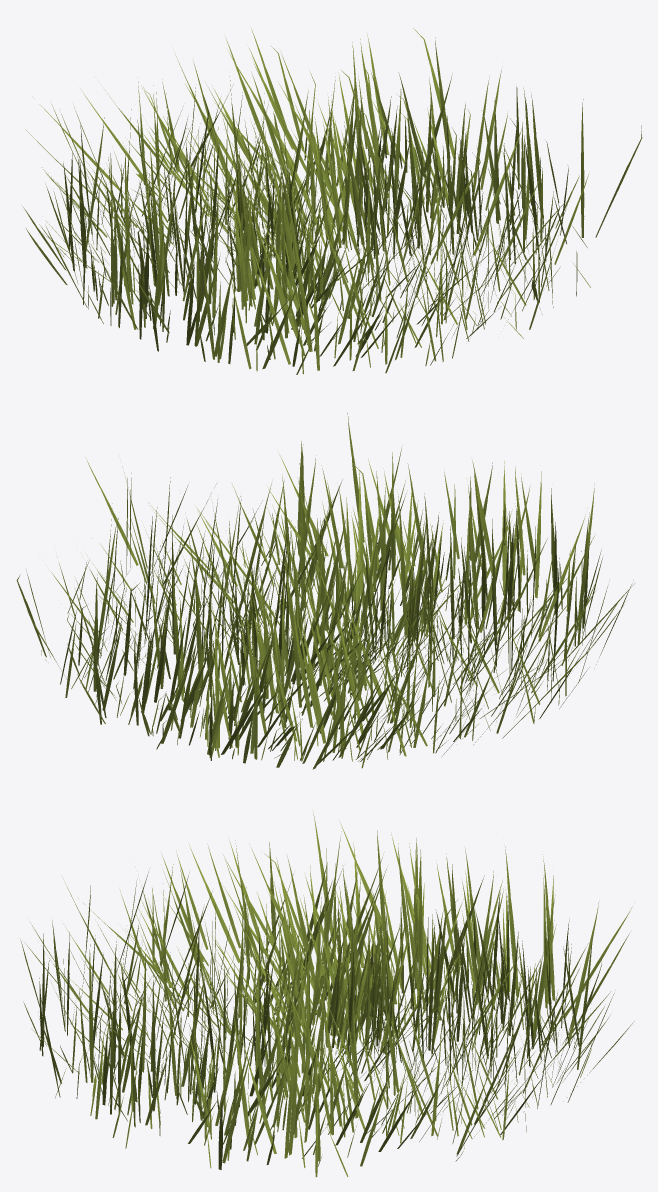
Rendered from grass.fbx.
The picture shows the model from 3 angles, top to bottom: view 1: azimuth 30°, elevation 25°; view 2: azimuth 150°, elevation 25°; view 3: azimuth 270°, elevation 25°; orthographic projection. The views are drawn at different scales.
Parts seen in each view (by area): view 1: GrassLawnAutumn_Grass2_Mat1_0; view 2: GrassLawnAutumn_Grass2_Mat1_0; view 3: GrassLawnAutumn_Grass2_Mat1_0.
Part boxes in pixels (x1,y1,x2,y2): GrassLawnAutumn_Grass2_Mat1_0: (22, 28, 642, 374); GrassLawnAutumn_Grass2_Mat1_0: (16, 412, 634, 769); GrassLawnAutumn_Grass2_Mat1_0: (20, 810, 634, 1177).
Size of the model in its own units: 382 by 98.96 by 357.
1 material, 1 textured.
